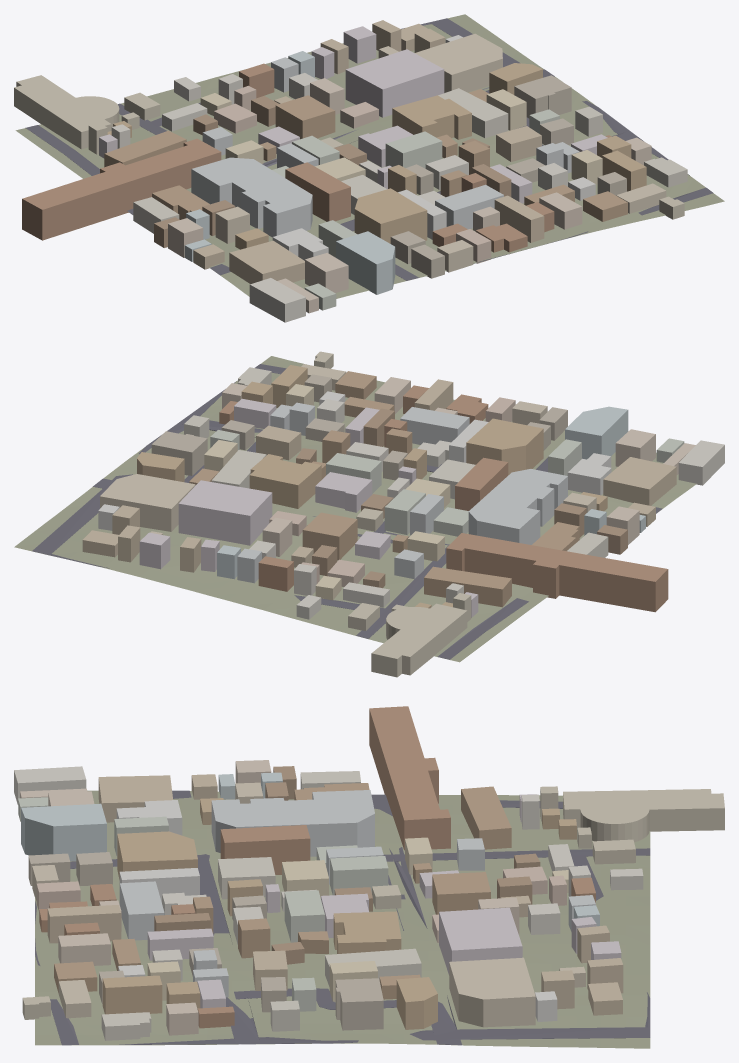
Rendered from chunk_5_6.glb.
3 views of the same model, one above another, from view 1: azimuth 30°, elevation 25°; view 2: azimuth 150°, elevation 25°; view 3: azimuth 270°, elevation 25° (orthographic). The views are drawn at different scales.
Parts seen in each view (by area): view 1: geometry_122, geometry_117, geometry_121, geometry_109, geometry_77, geometry_79, geometry_67, geometry_37, geometry_120, geometry_20, geometry_35, geometry_104 (+72 smaller); view 2: geometry_122, geometry_117, geometry_121, geometry_109, geometry_77, geometry_79, geometry_67, geometry_120, geometry_20, geometry_37, geometry_116, geometry_61 (+67 smaller); view 3: geometry_122, geometry_117, geometry_77, geometry_121, geometry_79, geometry_37, geometry_109, geometry_35, geometry_67, geometry_120, geometry_2, geometry_116 (+69 smaller).
Part boxes in pixels (x1,y1,x2,y2): geometry_122: (15, 14, 724, 298); geometry_117: (22, 138, 221, 240); geometry_121: (191, 157, 312, 237); geometry_109: (345, 49, 444, 117); geometry_77: (14, 75, 119, 149); geometry_79: (415, 33, 502, 92); geometry_67: (354, 188, 427, 243); geometry_37: (336, 231, 395, 294); geometry_120: (392, 95, 471, 139); geometry_20: (229, 240, 304, 284); geometry_35: (285, 162, 350, 221); geometry_104: (275, 95, 335, 139); geometry_122: (14, 356, 696, 662); geometry_117: (446, 533, 668, 612); geometry_121: (468, 469, 567, 544); geometry_109: (178, 480, 272, 545); geometry_77: (371, 603, 467, 677); geometry_79: (100, 474, 195, 531); geometry_67: (466, 418, 543, 474); geometry_120: (249, 454, 321, 508); geometry_20: (603, 457, 676, 505); geometry_37: (565, 406, 628, 459); geometry_116: (424, 566, 511, 607); geometry_61: (400, 407, 469, 444); geometry_122: (35, 790, 650, 1048); geometry_117: (369, 706, 450, 850); geometry_77: (563, 789, 724, 842); geometry_121: (211, 790, 374, 856); geometry_79: (449, 957, 535, 1027); geometry_37: (21, 803, 106, 861); geometry_109: (439, 907, 522, 975); geometry_35: (220, 825, 310, 874); geometry_67: (117, 831, 197, 879); geometry_120: (333, 911, 401, 953); geometry_2: (335, 978, 383, 1030); geometry_116: (461, 786, 511, 849).
Size of the model in its own units: 303 by 20.86 by 289.
